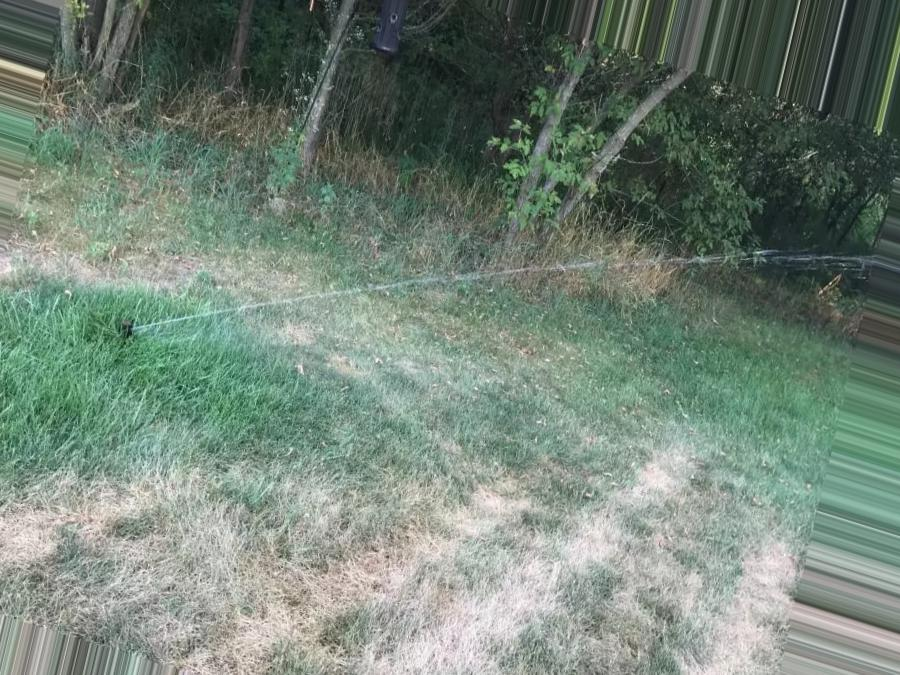patch: (375, 511, 666, 675), (54, 495, 278, 614), (688, 497, 793, 630)
